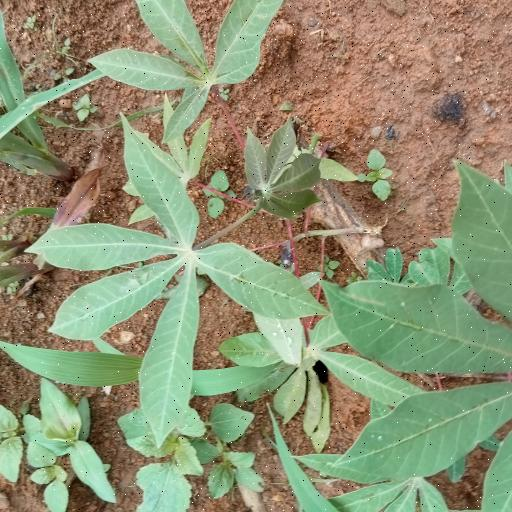Cassava_Mosaic: (44, 120, 310, 440)
